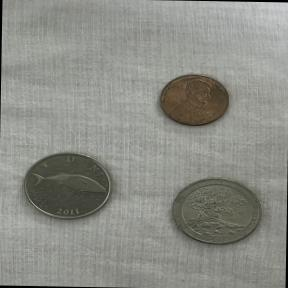coin: (18, 148, 120, 224), (167, 174, 268, 250), (150, 70, 236, 135)
